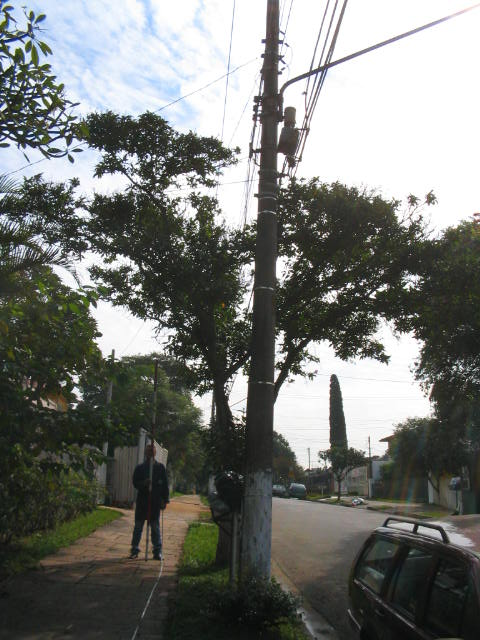crown: (67, 117, 450, 401)
stem: (206, 405, 250, 567)
stick: (138, 358, 160, 561)
tree: (63, 114, 450, 568)
